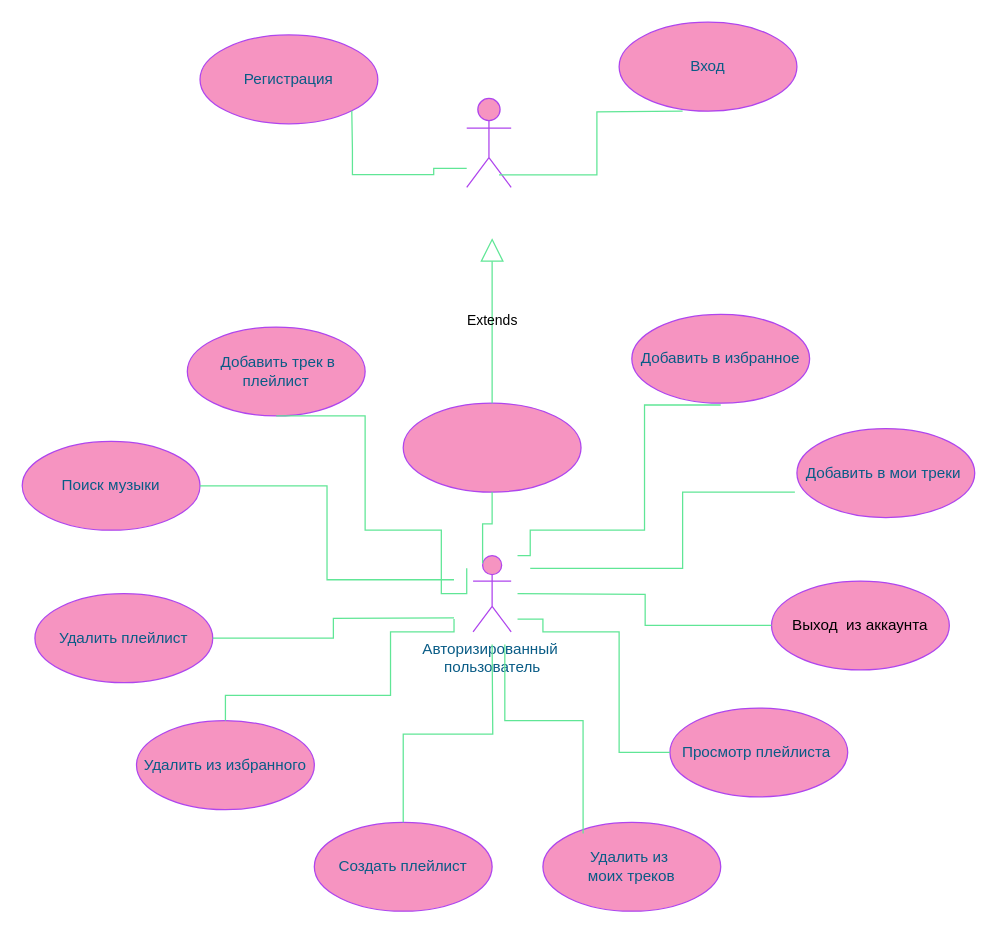
This 997x933 diagram has some shape labels left out. The box of each missing label's shape, as (x1, y1, x2, y2) in pixels:
Неавторизированный пользователь: (465, 97, 511, 187)
Удалить трек из плейлиста: (402, 402, 581, 492)
